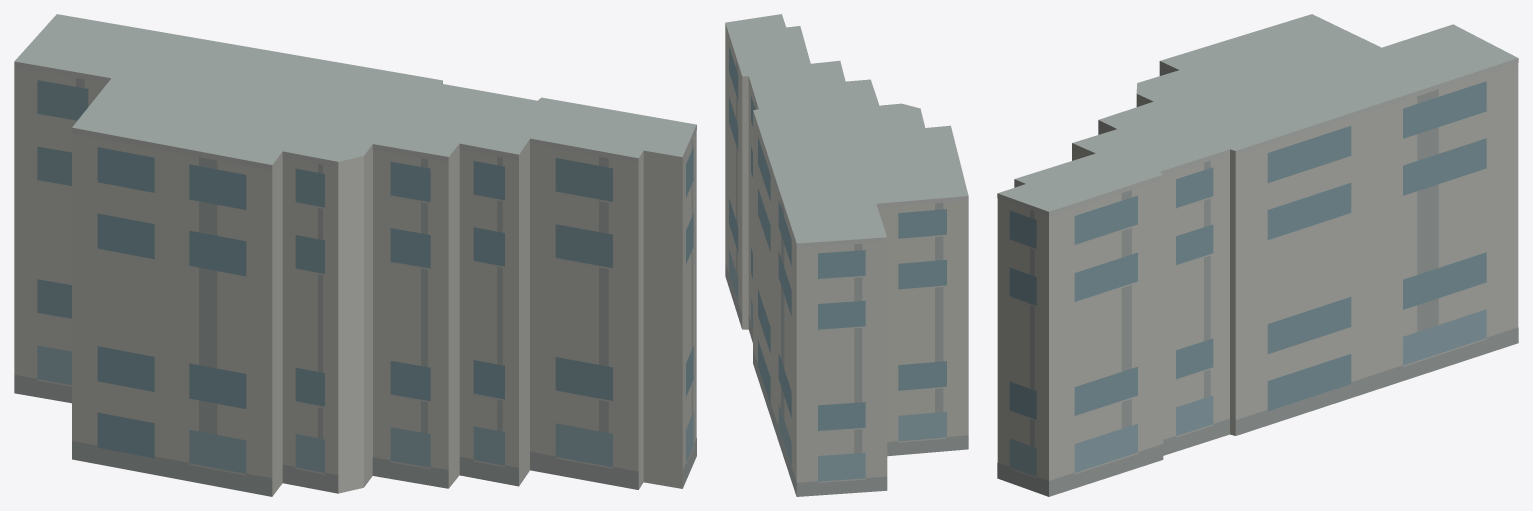
The model's file is survey-upis-32674129.glb.
3 renders of one model, left to right at view 1: azimuth 30°, elevation 25°; view 2: azimuth 150°, elevation 25°; view 3: azimuth 270°, elevation 25°, orthographic. The views are drawn at different scales.
Parts seen in each view (by area): view 1: survey-upis-32674129.tmp; view 2: survey-upis-32674129.tmp; view 3: survey-upis-32674129.tmp.
Boxes of the visible parts, left/top/right/bottom form: survey-upis-32674129.tmp: left=14, top=14, right=696, bottom=496; survey-upis-32674129.tmp: left=725, top=14, right=968, bottom=496; survey-upis-32674129.tmp: left=997, top=14, right=1518, bottom=496.
Bounding box in the file's own units: 20.61 × 13.85 × 22.94.
